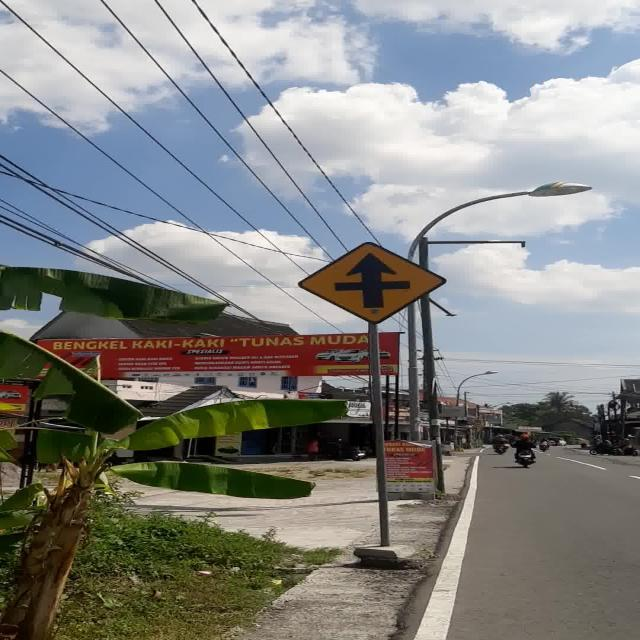Persimpangan 3 Prioritas: (297, 241, 447, 324)
